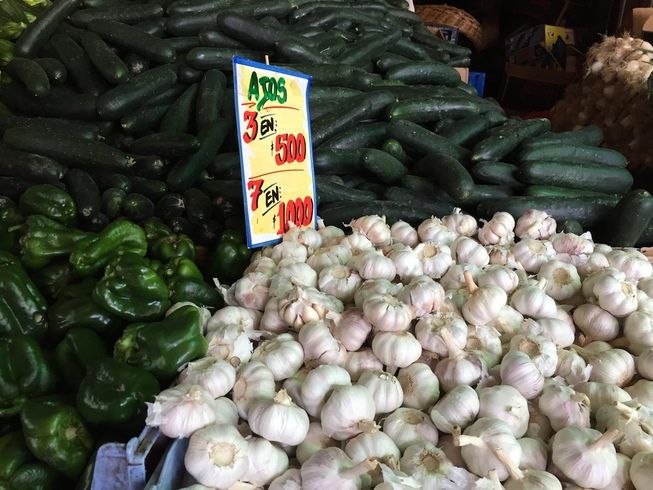precio: (230, 53, 322, 260)
